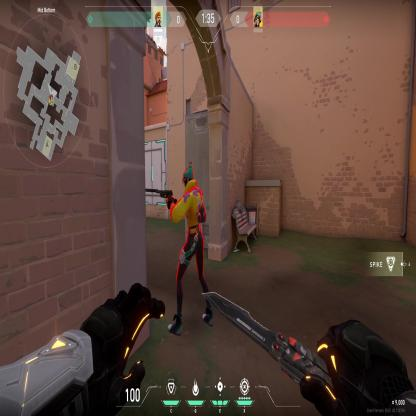enemy: (165, 161, 212, 293)
